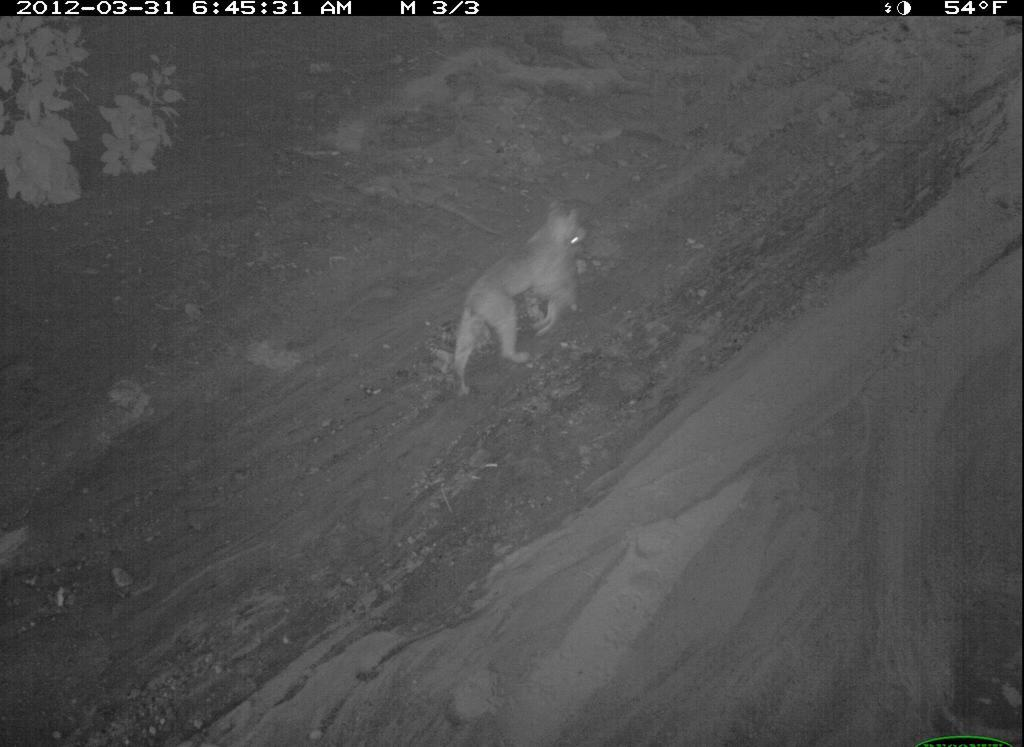bobcat: (897, 392, 1024, 747)
